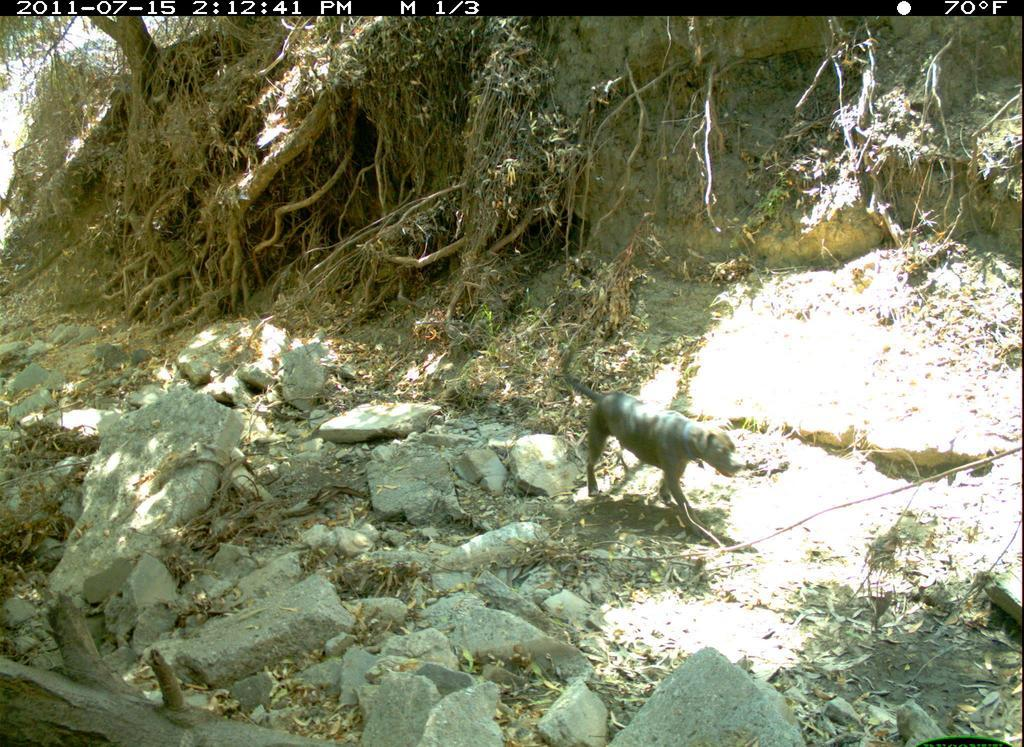dog: (554, 334, 750, 542)
